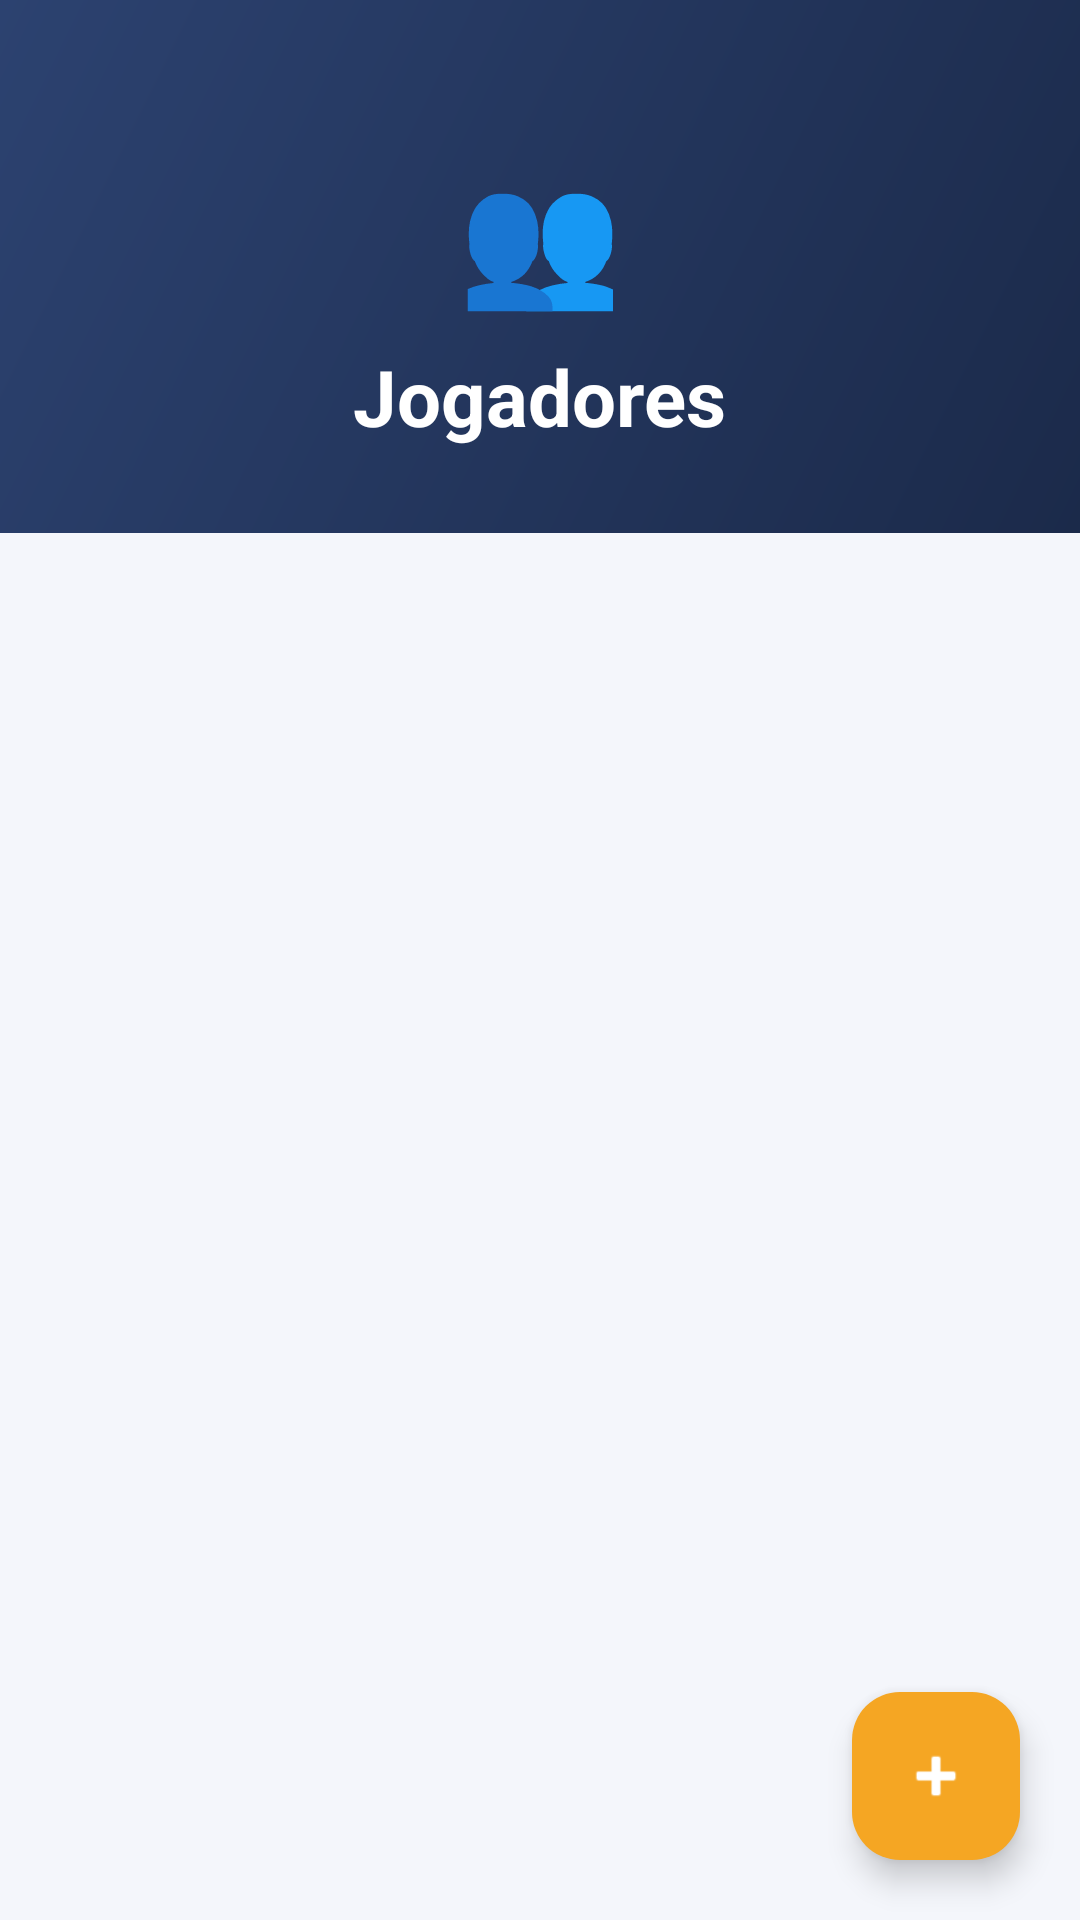

Icons on this 1080*1920 Android screen, each with its box as (x1, y1, x2, y2):
Adicionar Jogador: (852, 1692, 1020, 1860)
